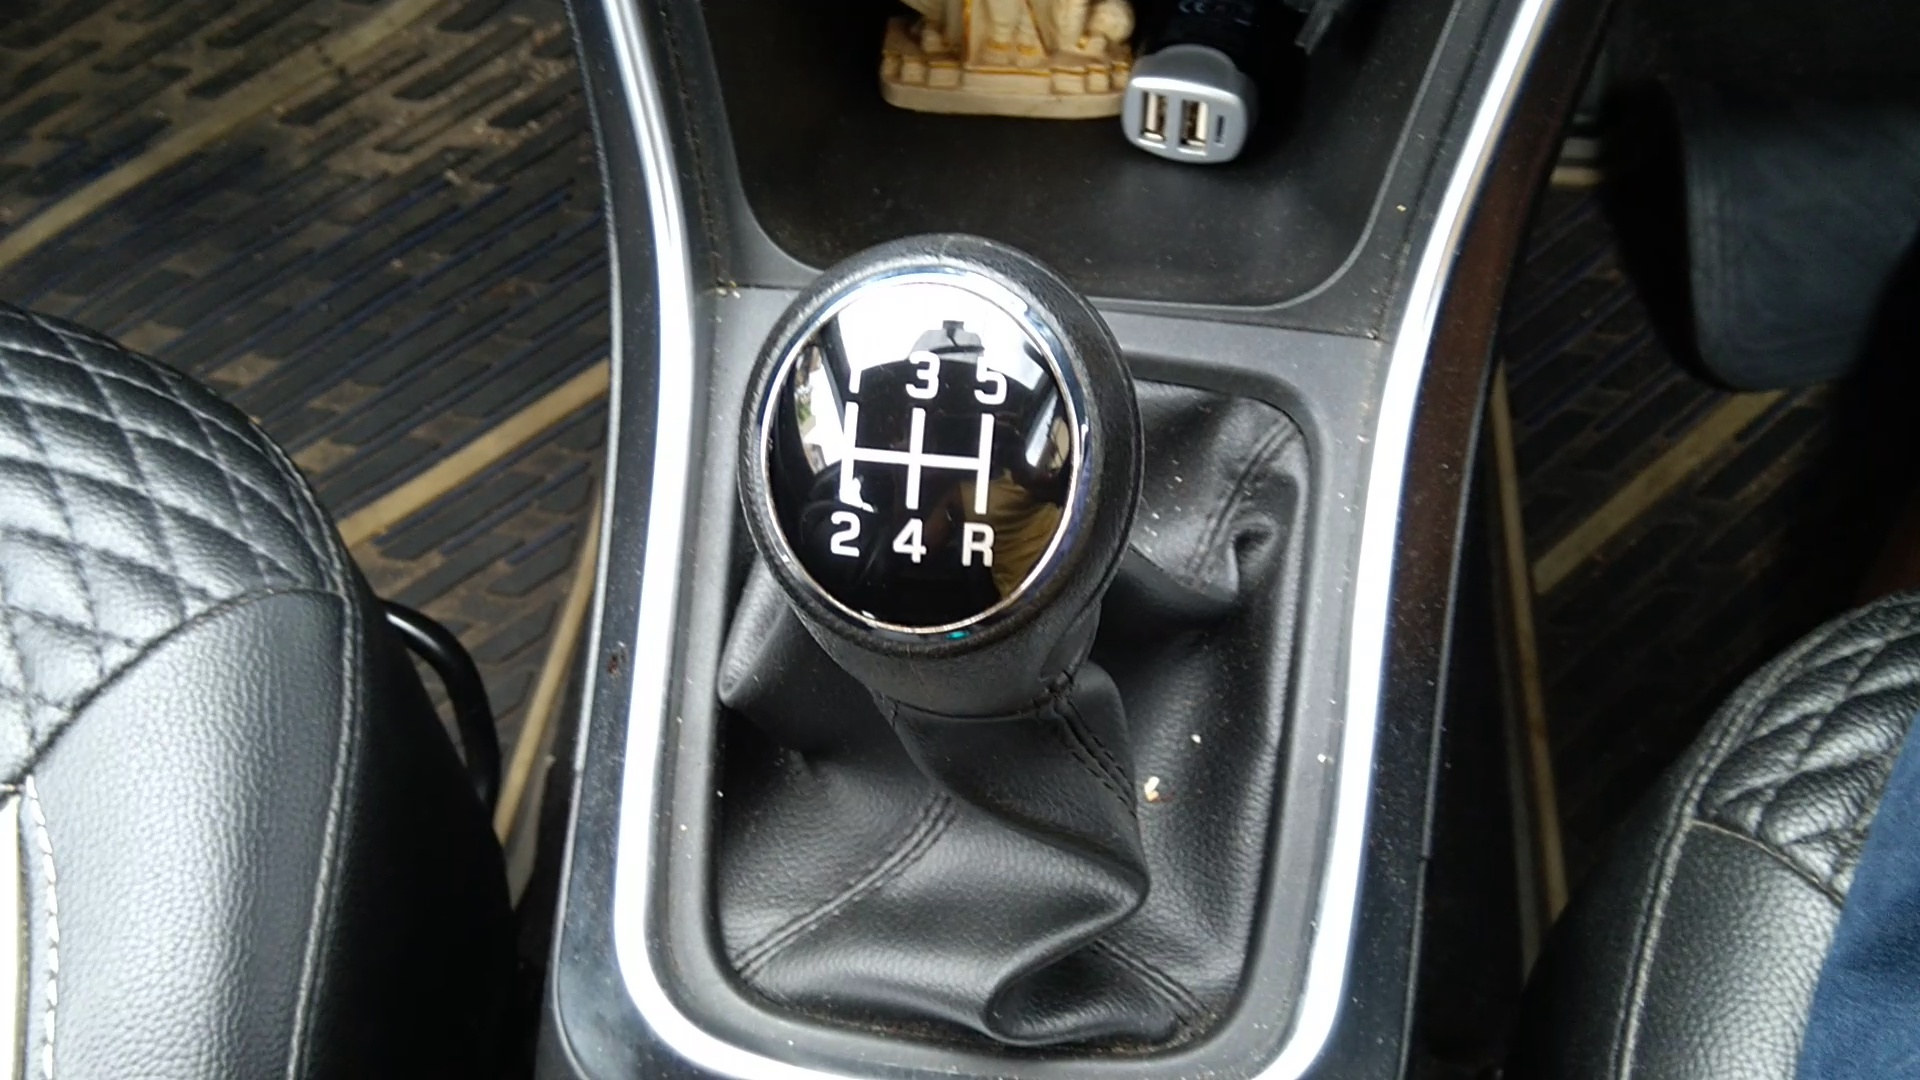manual_gear: (738, 237, 1182, 767)
